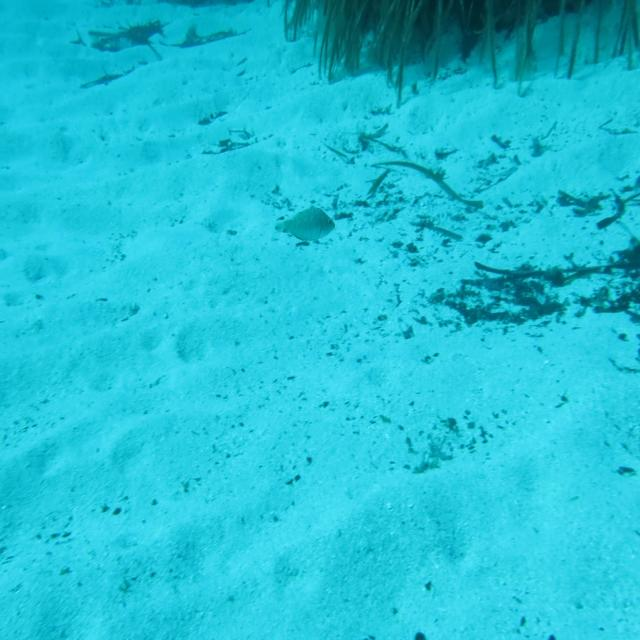SA: (262, 192, 339, 252)
vegetation: (280, 0, 640, 71)
